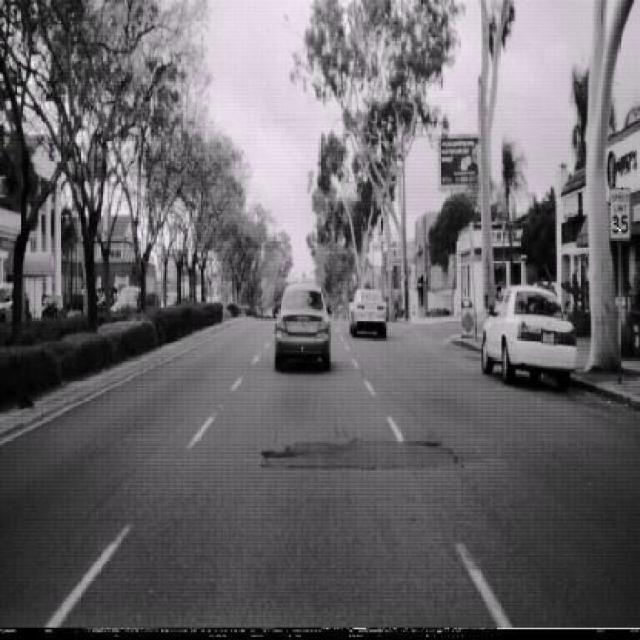speedLimit35: (609, 186, 631, 242)
